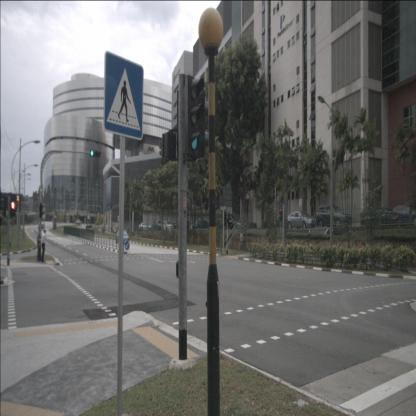human-pedestrian-adult: (40, 229, 46, 263), (37, 230, 41, 262), (240, 230, 244, 253)
vehicle-car: (315, 206, 352, 228), (286, 210, 316, 230), (392, 204, 416, 223), (374, 207, 400, 223), (361, 212, 384, 227), (223, 214, 243, 230), (190, 220, 210, 233), (116, 229, 129, 244), (138, 222, 153, 232), (161, 221, 173, 231), (153, 220, 162, 231), (38, 221, 45, 229), (76, 218, 82, 226)
